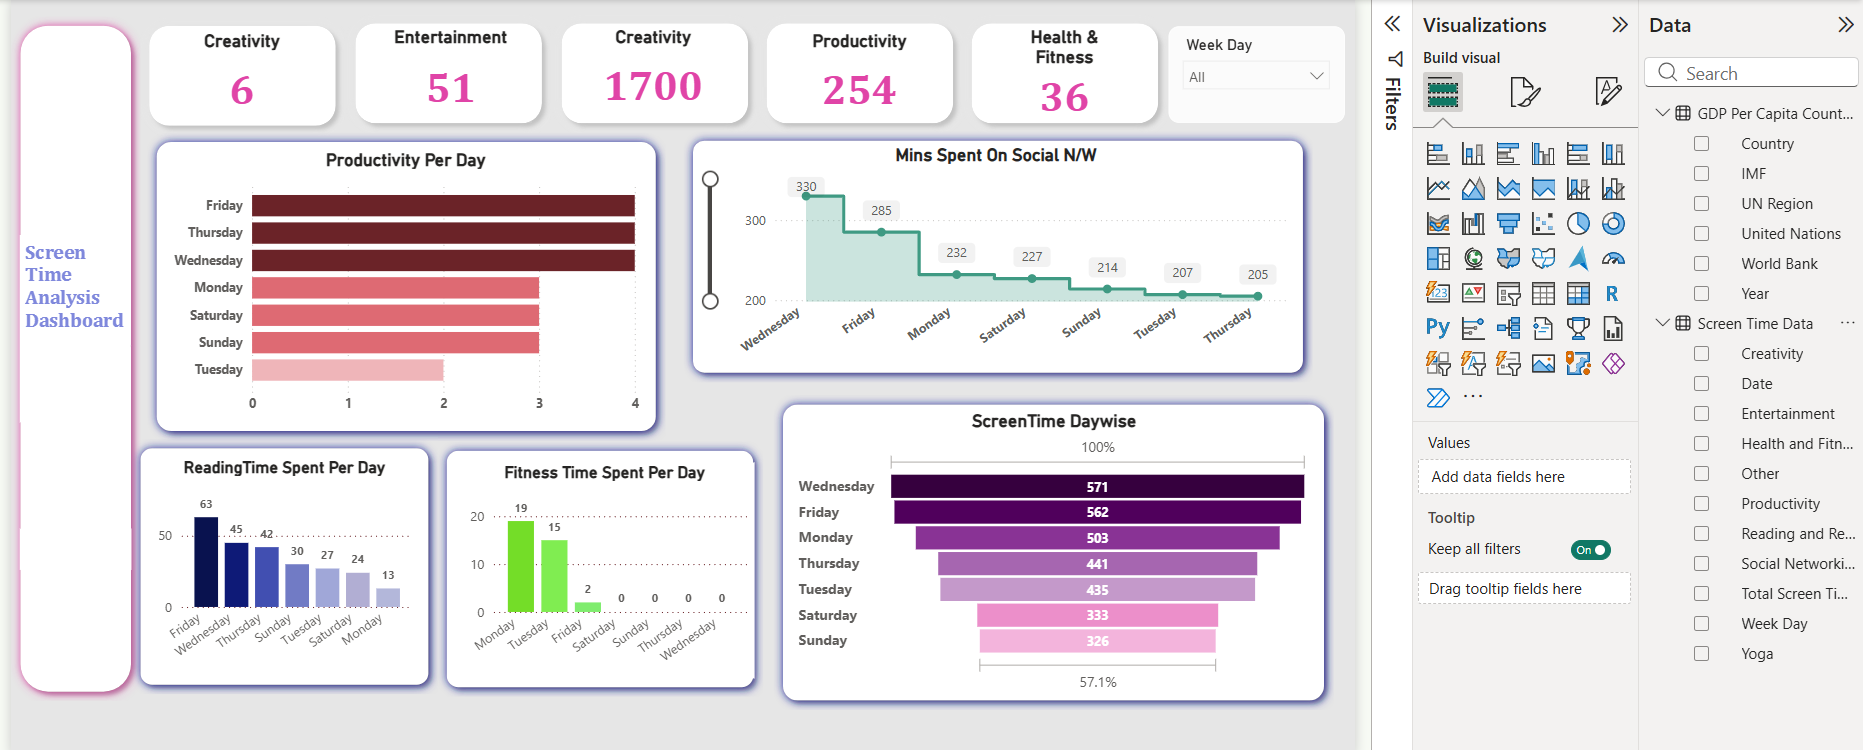

This screenshot's page, from the dashboard's own definition file:
{"tool":"powerbi","page":{"name":"Page 1","canvas":[1280,720],"ordinal":0},"visuals":[{"type":"shape","box":[0,15.6,123.3,652.2],"z":0},{"type":"shape","box":[122.9,16,195.6,113.3],"z":1000},{"type":"shape","box":[319.6,12.7,195.6,113.3],"z":2000},{"type":"shape","box":[710.7,12.7,195.6,113.3],"z":3000},{"type":"shape","box":[515.1,12.7,195.6,113.3],"z":4000},{"type":"shape","box":[906.2,12.7,195.6,113.3],"z":5000},{"type":"card","title":"Creativity ","fields":{"Values":["Sum(Screen Time Data.Creativity)"]},"box":[142.9,28.2,154.4,88.9],"z":6000},{"type":"card","title":"Entertainment ","fields":{"Values":["Sum(Screen Time Data.Entertainment)"]},"box":[341.1,24.4,154.4,92.2],"z":7000},{"type":"card","title":"Creativity ","fields":{"Values":["Sum(Screen Time Data.Social Networking)"]},"box":[535.1,24.9,154.4,88.9],"z":8000},{"type":"card","title":"Productivity","fields":{"Values":["Sum(Screen Time Data.Productivity)"]},"box":[730.7,28.2,154.4,88.9],"z":9000},{"type":"card","title":"Health & Fitness","fields":{"Values":["Sum(Screen Time Data.Health and Fitness)"]},"box":[926.2,24.9,154.4,88.9],"z":10000},{"type":"shape","box":[129.3,126.2,493.3,293.3],"z":11000},{"type":"clusteredBarChart","title":"Productivity Per Day","fields":{"Category":["Screen Time Data.Week Day"],"Y":["Count(Screen Time Data.Productivity)"]},"box":[148.2,141.8,454.4,261.1],"z":12000},{"type":"shape","box":[640,125.6,598.9,238.9],"z":13000},{"type":"areaChart","title":"Mins Spent On Social N/W ","fields":{"Category":["Screen Time Data.Week Day"],"Y":["Sum(Screen Time Data.Social Networking)"]},"box":[654.4,136.7,566.7,215.6],"z":14000},{"type":"shape","box":[726,375.8,533.3,300],"z":15000},{"type":"funnel","title":"ScreenTime Daywise","fields":{"Category":["Screen Time Data.Week Day"],"Y":["Sum(Screen Time Data.Total Screen Time )"]},"box":[744.9,390.2,496.7,272.2],"z":16000},{"type":"shape","box":[114.2,417.3,292.2,243.3],"z":17000},{"type":"shape","box":[405.6,420,310,243.3],"z":18000},{"type":"columnChart","title":"Fitness Time Spent Per Day","fields":{"Category":["Screen Time Data.Week Day"],"Y":["Sum(Screen Time Data.Health and Fitness)"]},"box":[422.2,440,285.6,205.6],"z":19000},{"type":"columnChart","title":"ReadingTime Spent Per Day","fields":{"Category":["Screen Time Data.Week Day"],"Y":["Sum(Screen Time Data.Reading and Reference)"]},"box":[133.1,436.2,254.4,205.6],"z":20000},{"type":"slicer","fields":{"Values":["Screen Time Data.Week Day"]},"box":[1102.2,24.4,167.8,92.2],"z":21000},{"type":"shape","box":[7.8,273.3,106.7,111.1],"z":22000},{"type":"textbox","box":[8.3,223.8,106,178.6],"z":23000},{"type":"textbox","box":[7.8,503.3,106.7,38.9],"z":24000}]}

Visuals, with their boxes in screenshot pixels (x1, y1, x2, y2):
shape: 10 21 137 693
shape: 136 21 338 138
shape: 339 18 540 135
shape: 742 18 943 135
shape: 540 18 742 135
shape: 943 18 1145 135
"Creativity " card: 157 34 316 125
"Entertainment " card: 361 30 520 125
"Creativity " card: 561 30 720 122
"Productivity" card: 762 34 921 125
"Health & Fitness" card: 964 30 1123 122
shape: 143 135 651 437
"Productivity Per Day" clusteredBarChart: 162 151 630 420
shape: 669 134 1286 380
"Mins Spent On Social N/W " areaChart: 684 146 1267 368
shape: 757 392 1307 701
"ScreenTime Daywise" funnel: 777 407 1289 687
shape: 127 435 428 685
shape: 427 437 747 688
"Fitness Time Spent Per Day" columnChart: 445 458 739 670
"ReadingTime Spent Per Day" columnChart: 147 454 409 666
slicer - Screen Time Data.Week Day: 1145 30 1318 125
shape: 18 286 128 401
textbox: 18 235 127 419
textbox: 18 523 128 563
